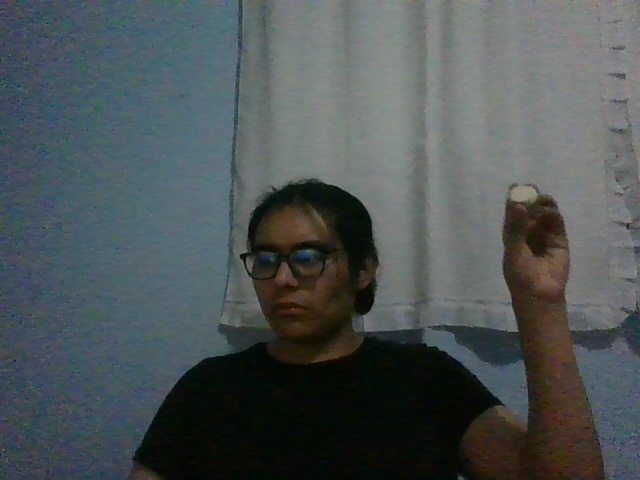goma: (509, 186, 538, 209)
